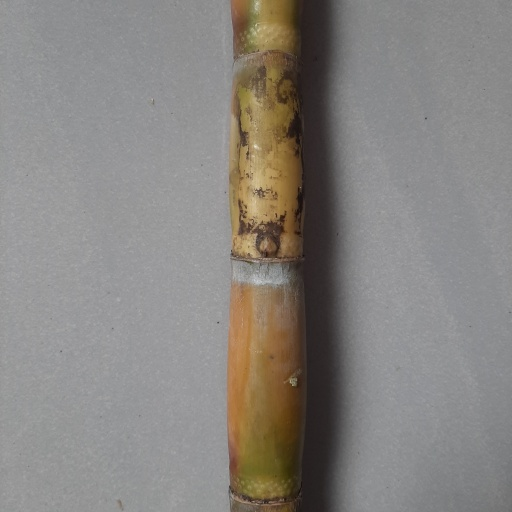Bud: (256, 235, 279, 256)
